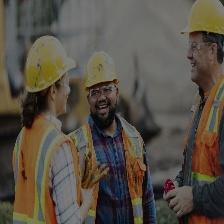Person: (65, 49, 158, 224), (12, 35, 96, 224), (162, 1, 224, 224)
helmet: (24, 35, 76, 95), (180, 1, 224, 40), (85, 50, 119, 93)
vest: (70, 115, 148, 224), (8, 112, 82, 224), (177, 74, 223, 224)
